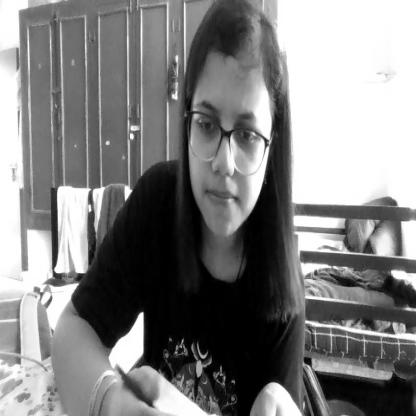Normal: (187, 0, 285, 242)
